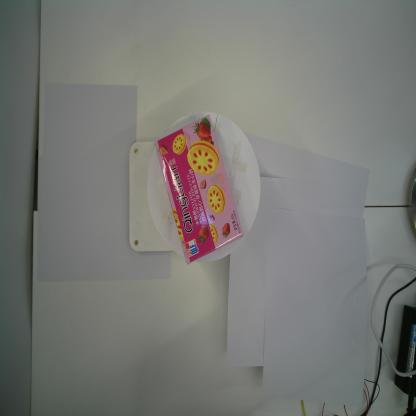Dessert: (154, 115, 244, 267)
